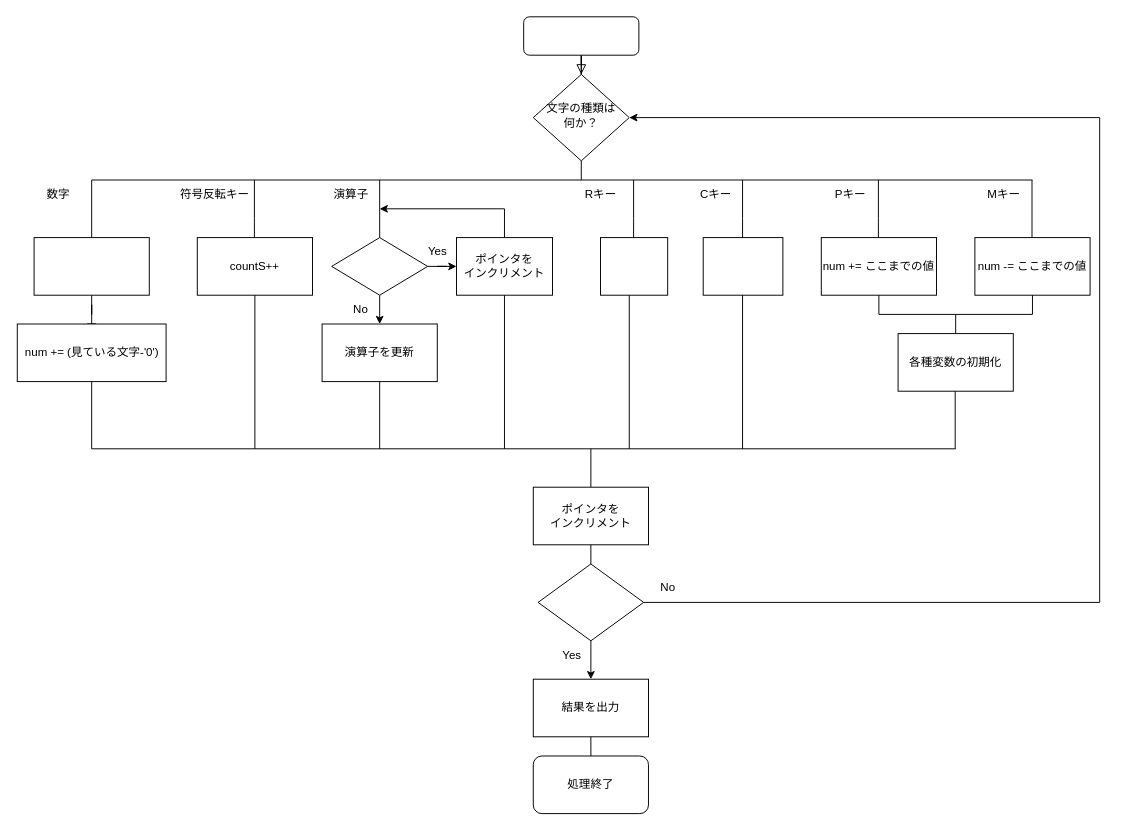
Image size: 1124x830. Some labels were removed from this diagram. The shapes that lost their labels are listed below. From the top down, each one's box as (x1, y1, x2, y2) in pixels, then its label:
(523, 16, 639, 55): 処理開始
(33, 237, 149, 295): num *= 10
(331, 237, 428, 295): 次も演算子？
(600, 237, 668, 295): acc = num
(702, 237, 783, 295): num = 0
(537, 563, 644, 641): 最後の文字か？
